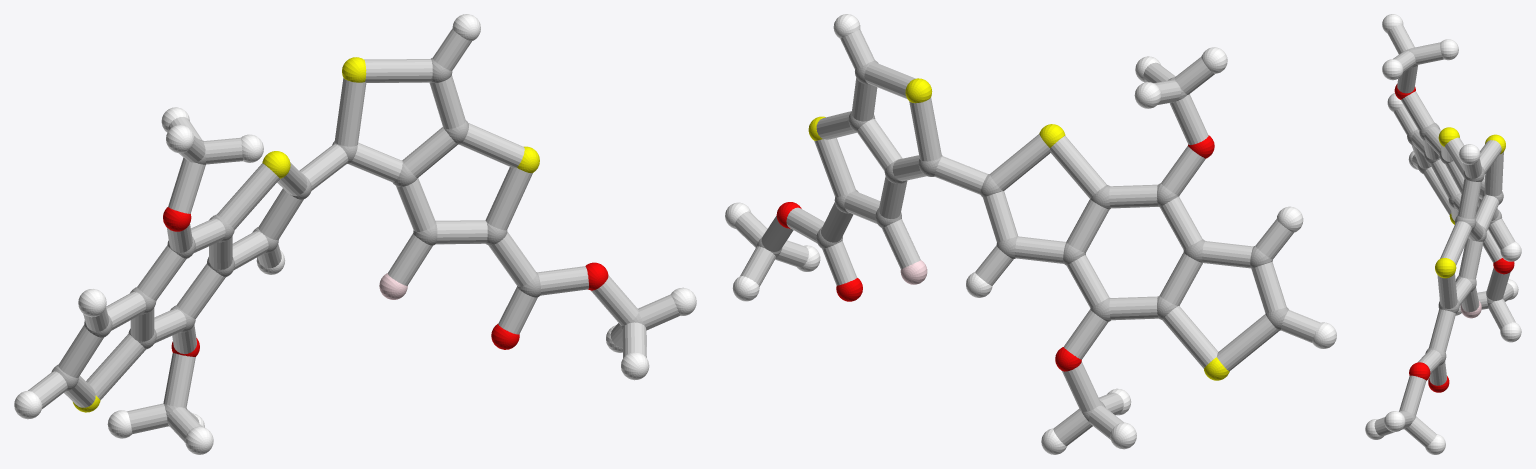
The model's file is color.glb.
The picture shows the model from 3 angles, left to right: view 1: azimuth 30°, elevation 25°; view 2: azimuth 150°, elevation 25°; view 3: azimuth 270°, elevation 25°; orthographic projection. The views are drawn at different scales.
Visible parts, largest first — view 1: grp15205, grp8689, grp1, grp7241, grp13395; view 2: grp15205, grp8689, grp1, grp13395, grp7241; view 3: grp15205, grp8689, grp1, grp13395, grp7241.
Part boxes in pixels (bbox=[...]): grp15205: bbox=[28, 28, 679, 442]; grp8689: bbox=[14, 14, 696, 454]; grp1: bbox=[51, 58, 644, 426]; grp7241: bbox=[73, 57, 539, 412]; grp13395: bbox=[163, 207, 608, 356]; grp15205: bbox=[734, 29, 1320, 445]; grp8689: bbox=[725, 14, 1336, 454]; grp1: bbox=[756, 60, 1288, 421]; grp13395: bbox=[776, 135, 1214, 371]; grp7241: bbox=[808, 78, 1229, 380]; grp15205: bbox=[1374, 24, 1515, 447]; grp8689: bbox=[1365, 14, 1521, 454]; grp1: bbox=[1399, 48, 1503, 429]; grp13395: bbox=[1394, 84, 1514, 392]; grp7241: bbox=[1435, 127, 1505, 278].
Bounding box in the file's own units: 16.09 × 9.15 × 4.41.
